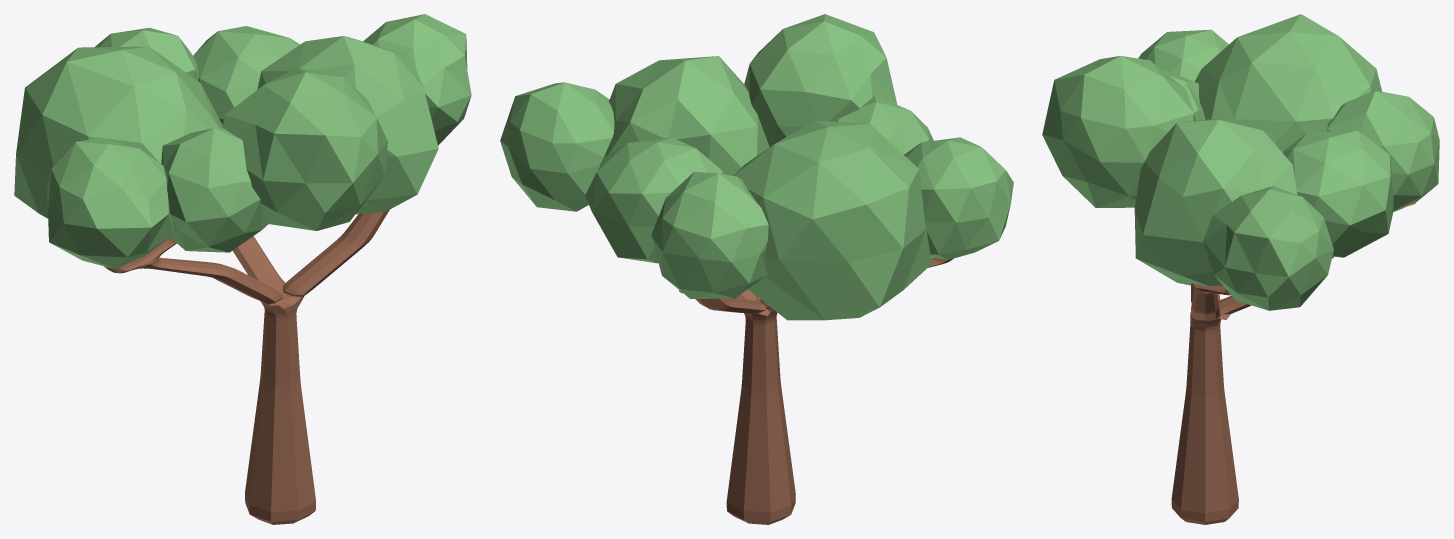
File: Treee.fbx
3 renders of one model, left to right at view 1: azimuth 30°, elevation 25°; view 2: azimuth 150°, elevation 25°; view 3: azimuth 270°, elevation 25°, orthographic. The views are drawn at different scales.
Parts seen in each view (by area): view 1: Icosphere, Plane; view 2: Icosphere, Plane; view 3: Icosphere, Plane.
Boxes of the visible parts, <box> form: Icosphere: <box>14,14,471,268</box>; Plane: <box>104,209,389,524</box>; Icosphere: <box>500,14,1013,320</box>; Plane: <box>679,257,953,524</box>; Icosphere: <box>1042,14,1439,310</box>; Plane: <box>1171,202,1415,524</box>.
Bounding box in the file's own units: 2926 × 2917 × 2323.
